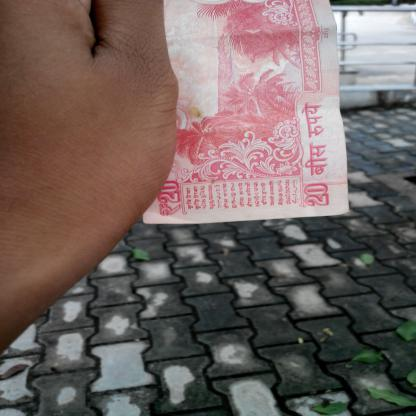Old20Back: (142, 0, 351, 225)
